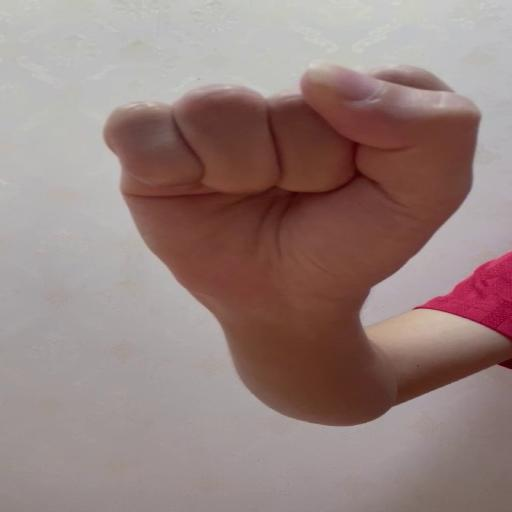fist: (102, 62, 484, 298)
